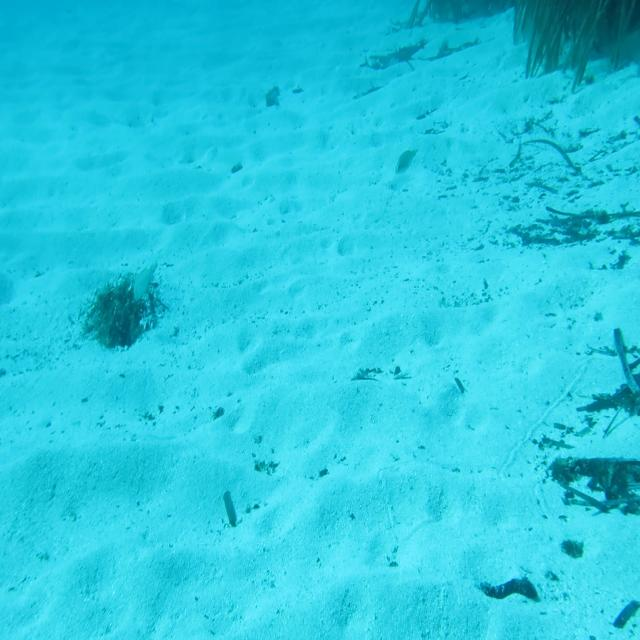LAND: (132, 260, 160, 302)
core_nest: (116, 292, 132, 311)
female: (394, 147, 418, 180)
nest: (82, 271, 166, 354)
vegetation: (488, 0, 640, 84), (508, 207, 640, 254), (556, 464, 640, 513), (580, 374, 640, 416), (401, 0, 478, 29), (484, 567, 537, 599), (613, 599, 640, 631), (221, 487, 237, 530), (560, 540, 582, 563), (266, 85, 282, 105)
